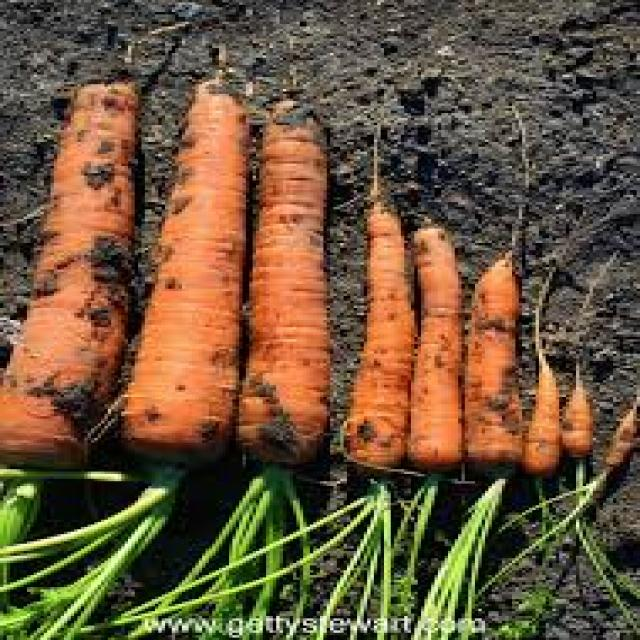Stale_Carrot: (1, 80, 133, 446), (132, 67, 252, 449), (232, 89, 335, 462)
